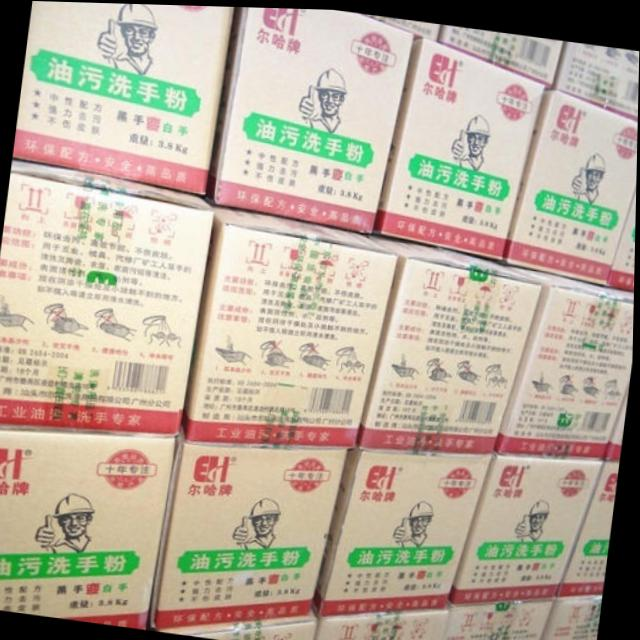box: (0, 159, 214, 436), (183, 195, 398, 445), (205, 5, 413, 231), (13, 1, 233, 193), (357, 229, 542, 452), (151, 421, 349, 627), (372, 35, 545, 257), (0, 426, 177, 627), (316, 439, 493, 614), (496, 259, 635, 456), (499, 86, 638, 281), (451, 446, 605, 601), (558, 454, 620, 593), (438, 21, 562, 84), (550, 38, 639, 118), (313, 599, 451, 640), (442, 594, 558, 640), (159, 609, 320, 640), (542, 589, 604, 640), (607, 183, 637, 286), (371, 12, 441, 39), (604, 384, 629, 457)
